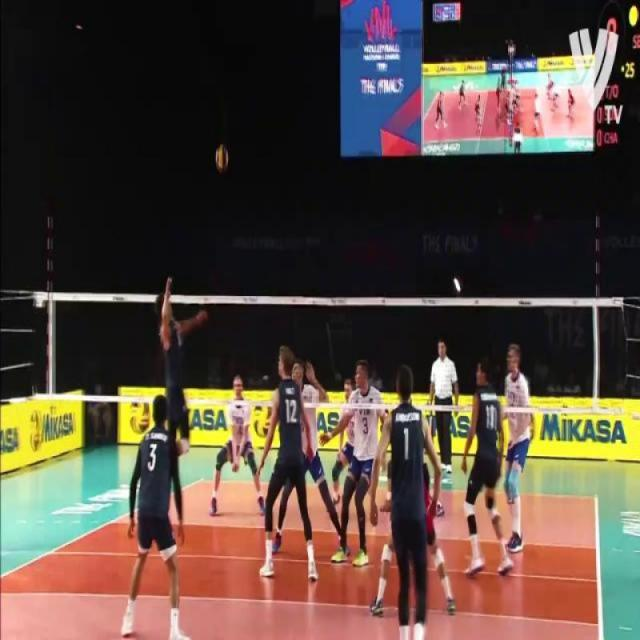volleyball: (129, 398, 150, 436), (254, 405, 274, 438), (214, 142, 231, 174), (28, 413, 41, 450)
